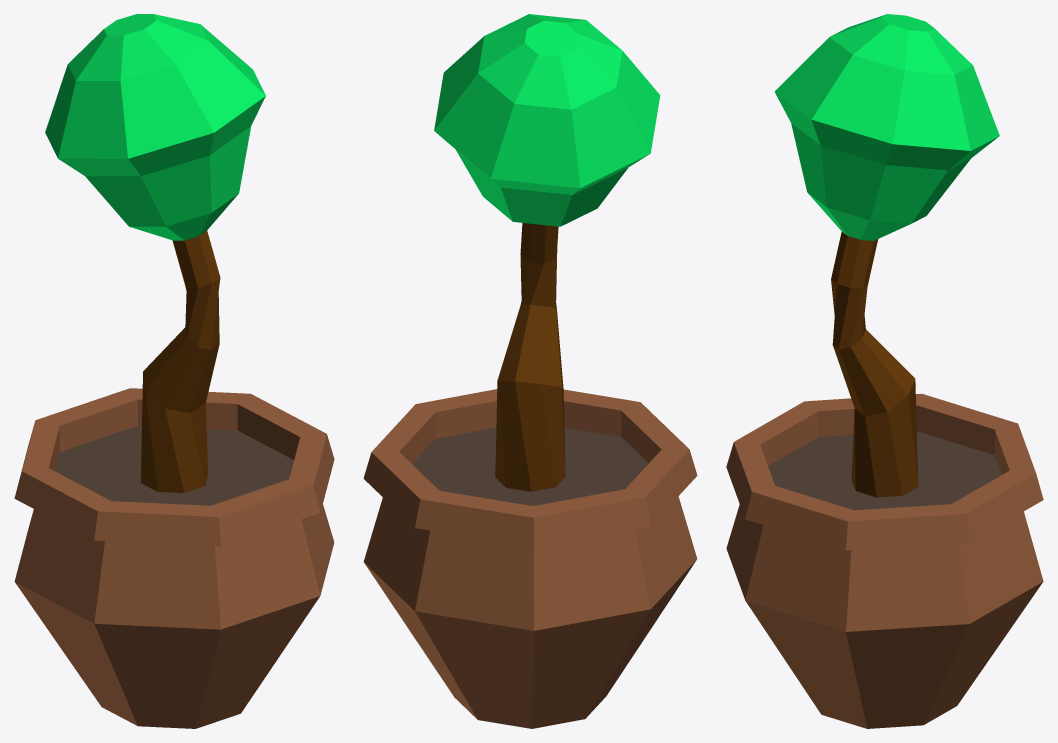
The model's file is chejra.fbx.
The picture shows the model from 3 angles, left to right: view 1: azimuth 30°, elevation 25°; view 2: azimuth 150°, elevation 25°; view 3: azimuth 270°, elevation 25°; orthographic projection. The views are drawn at different scales.
Parts seen in each view (by area): view 1: Cylinder.001; view 2: Cylinder.001; view 3: Cylinder.001.
Part boxes in pixels (<box>): Cylinder.001: <box>14,14,334,728</box>; Cylinder.001: <box>363,14,697,728</box>; Cylinder.001: <box>726,14,1043,728</box>.
Size of the model in its own units: 36.4 by 84.37 by 36.4.
